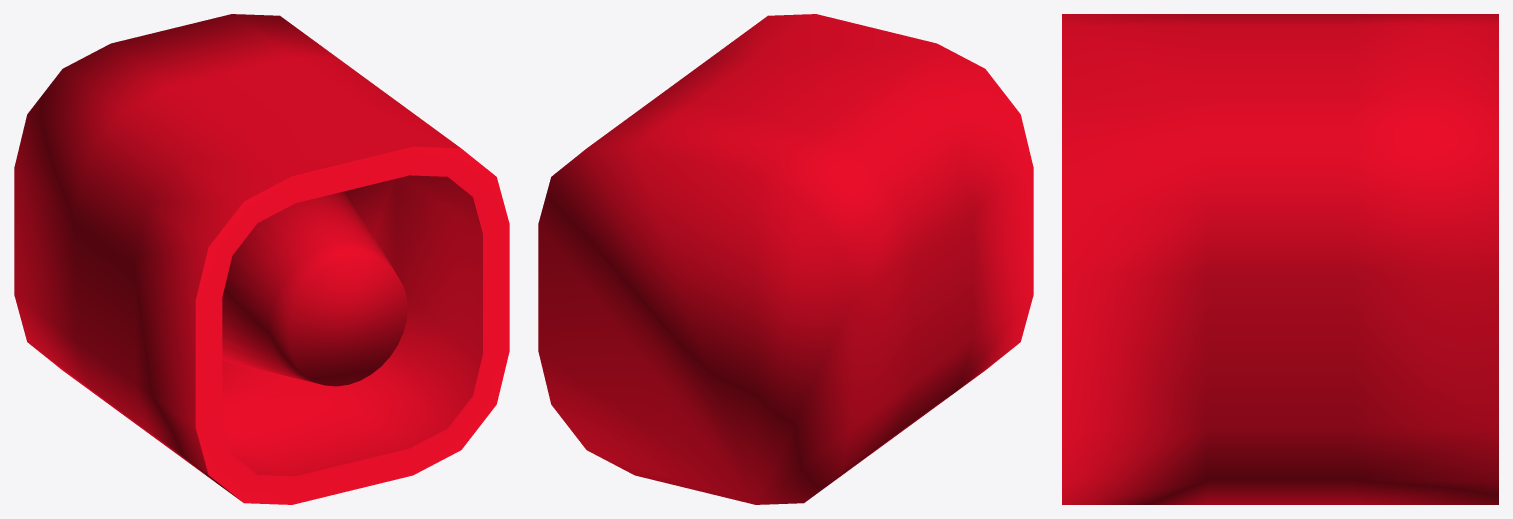
The model's file is Security Alarm.fbx.
3 renders of one model, left to right at view 1: azimuth 30°, elevation 25°; view 2: azimuth 150°, elevation 25°; view 3: azimuth 270°, elevation 25°, orthographic. The views are drawn at different scales.
Parts seen in each view (by area): view 1: Cube; view 2: Cube; view 3: Cube.
Boxes of the visible parts, bbox=[...] form: Cube: bbox=[14, 14, 509, 504]; Cube: bbox=[538, 14, 1033, 504]; Cube: bbox=[1062, 14, 1498, 504].
Bounding box in the file's own units: 10 × 10 × 10.
